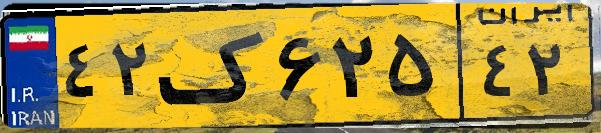2: (330, 28, 385, 110), (525, 38, 570, 115), (110, 28, 158, 98)
4: (57, 26, 110, 100), (475, 38, 525, 113)
5: (385, 28, 445, 110)
6: (270, 28, 330, 110)
ک: (158, 12, 270, 120)
